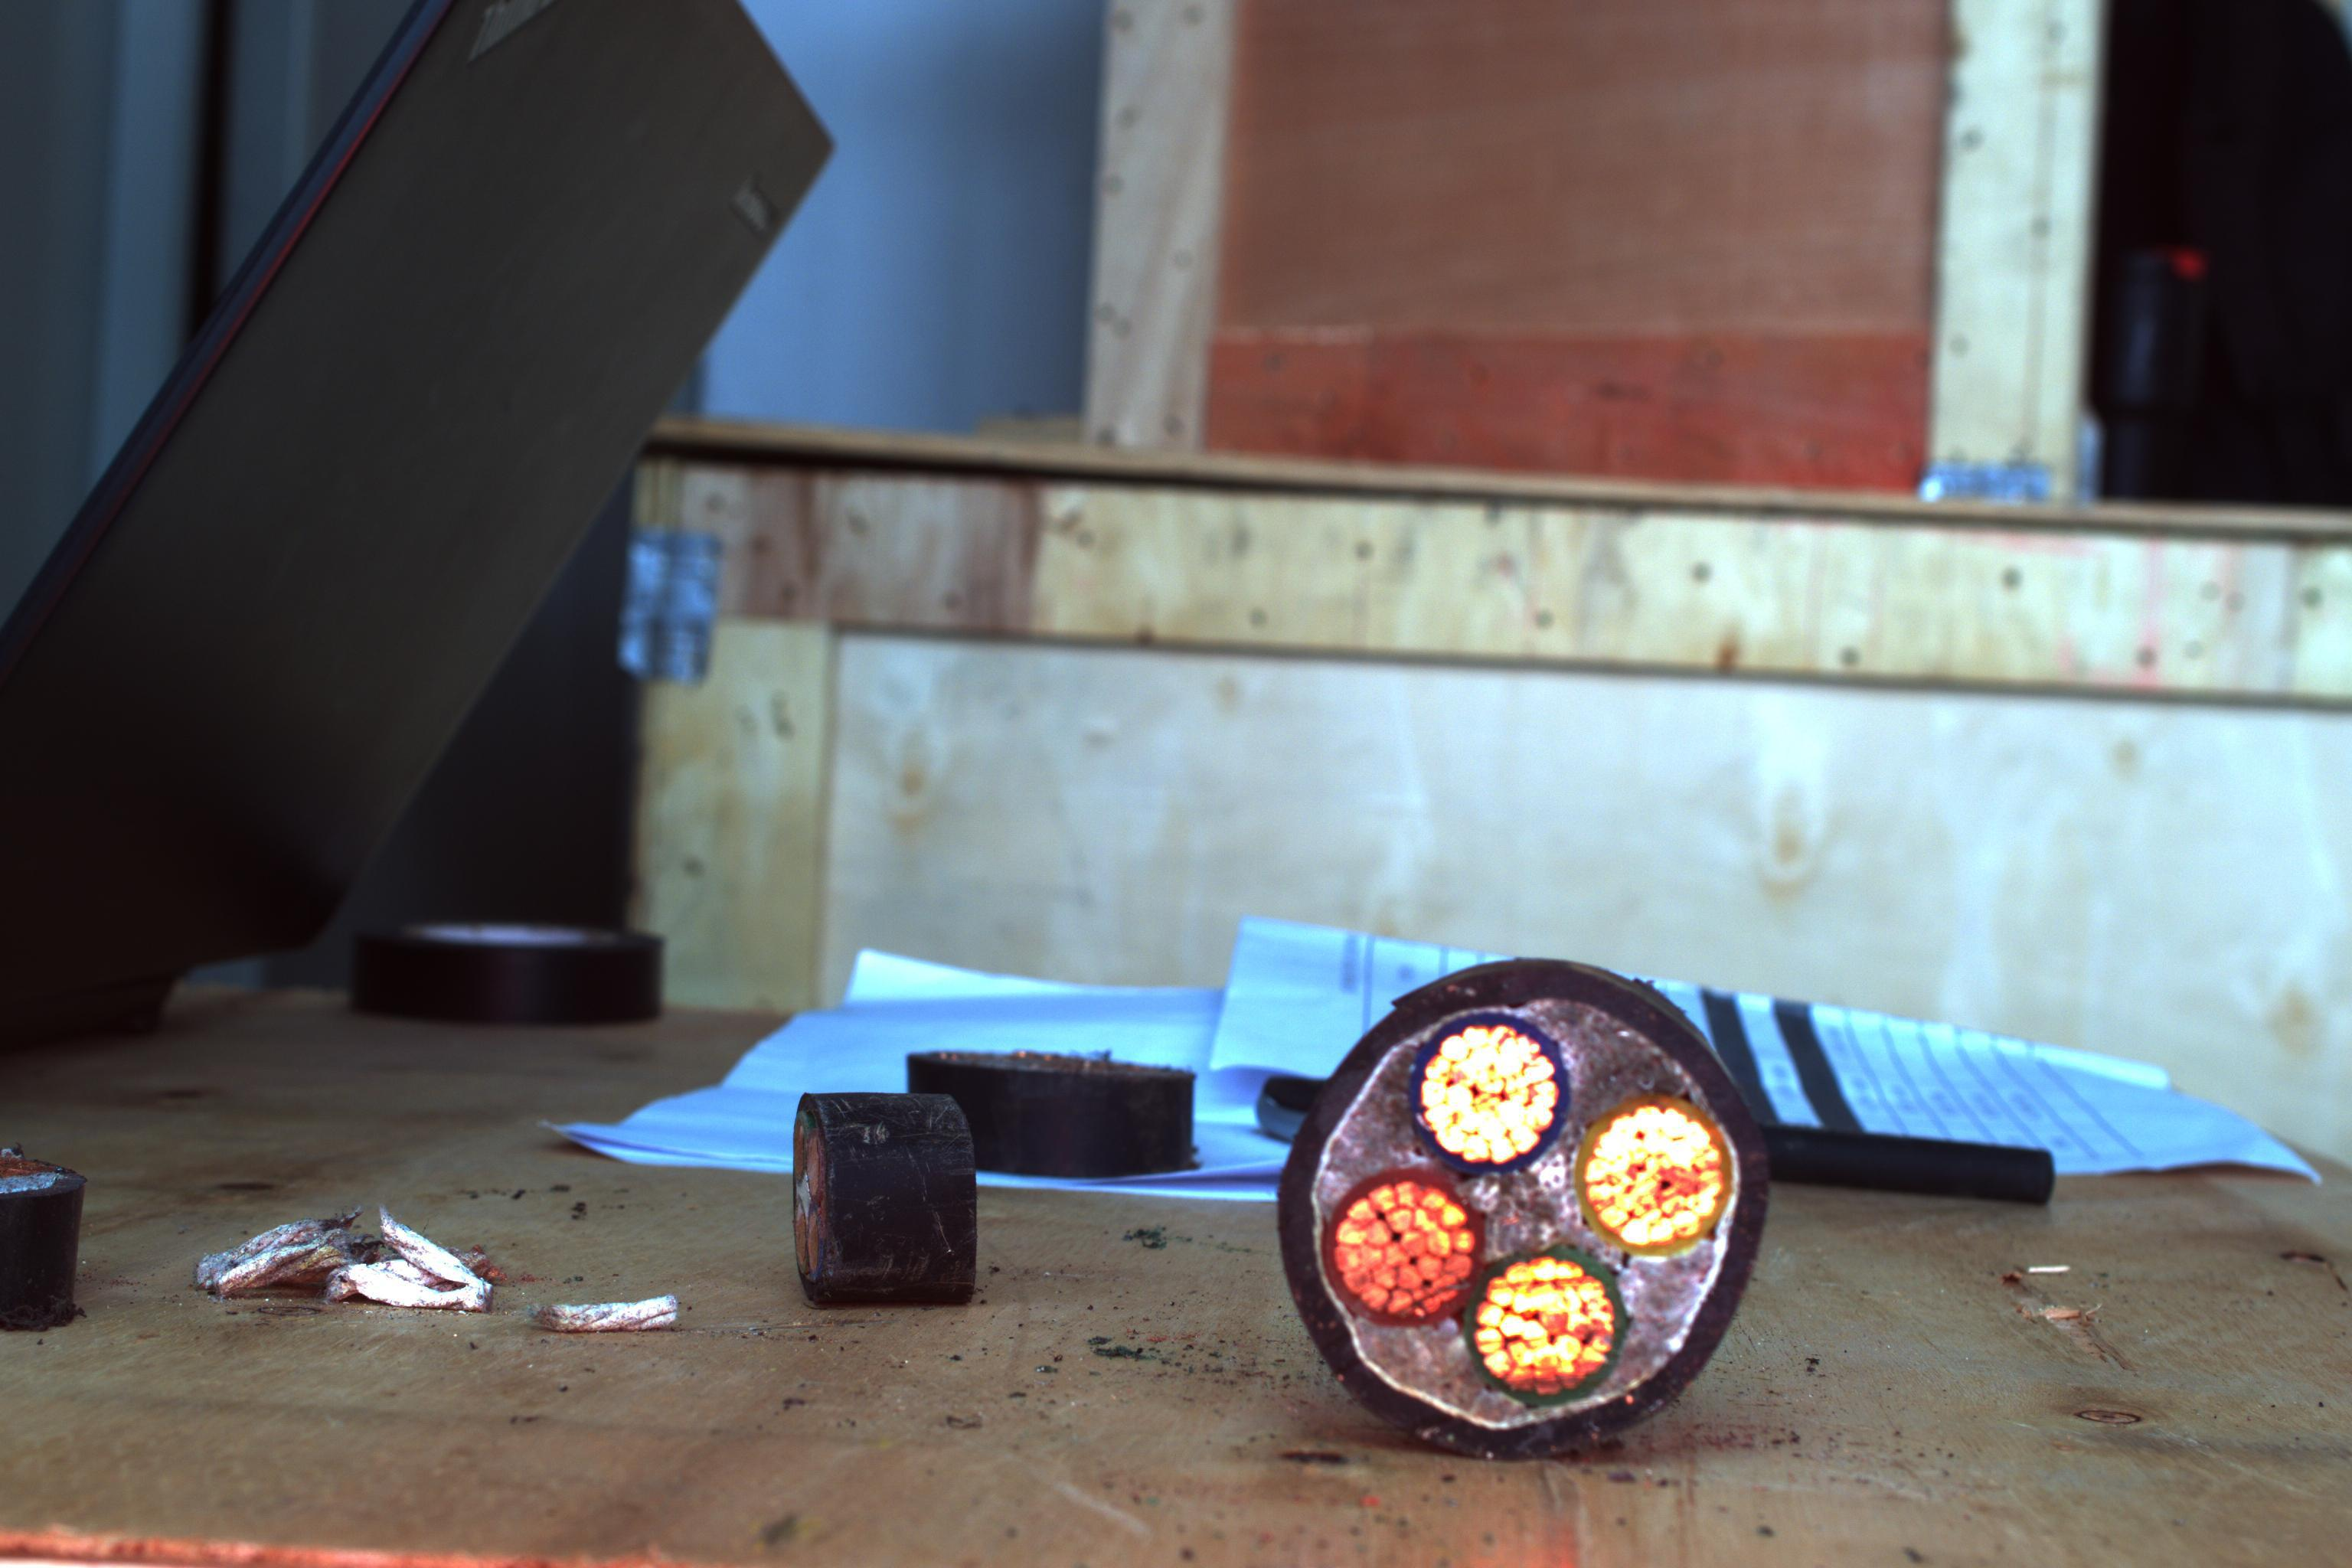YJV_0.6_1kV_4x120: (1284, 954, 1767, 1444)
